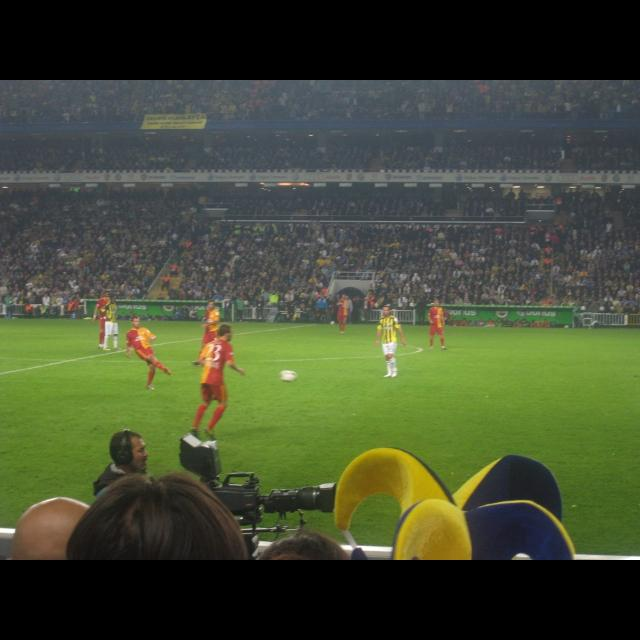Football: (280, 372, 296, 384)
